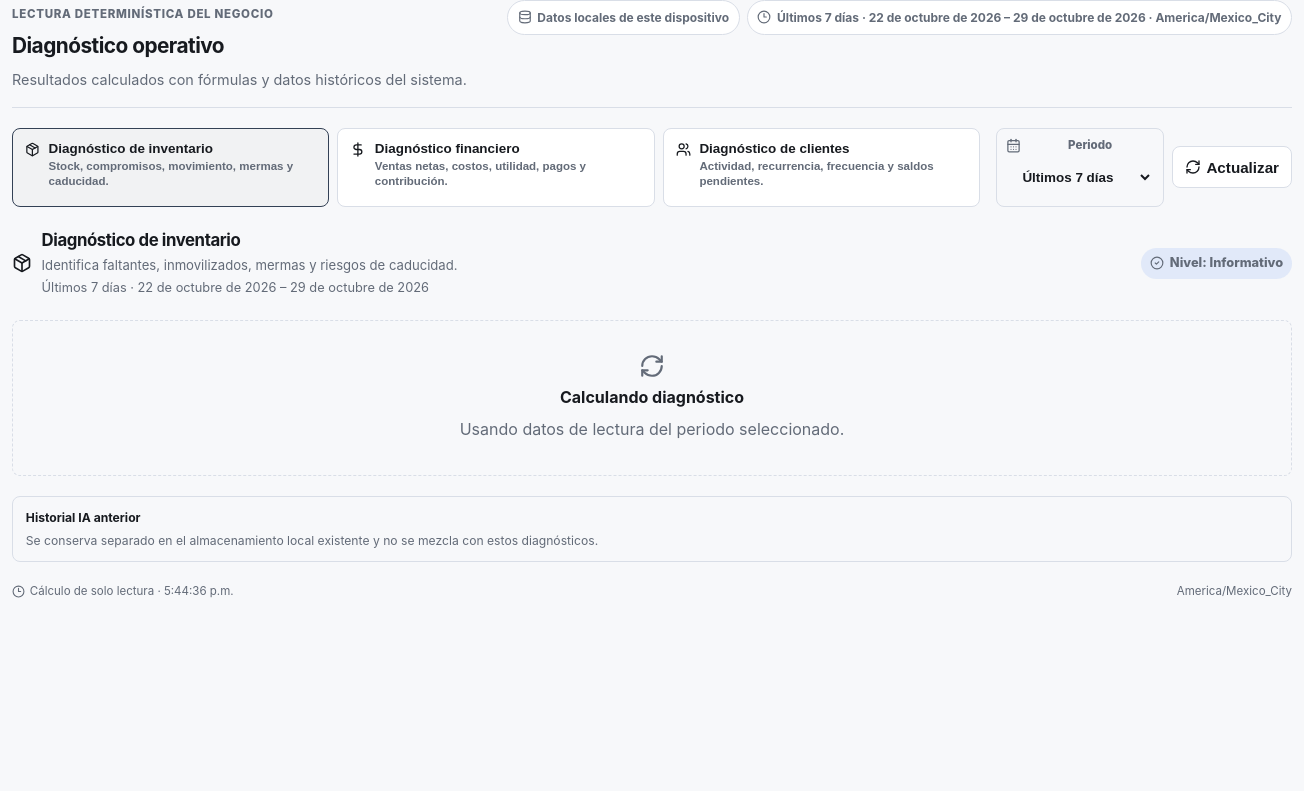
Scenario: OperationalDiagnostics › shows customer metrics with human labels and keeps personal details out of the summary
Click the tab "Diagnóstico de clientes": point(821, 167) [662,128,980,207]
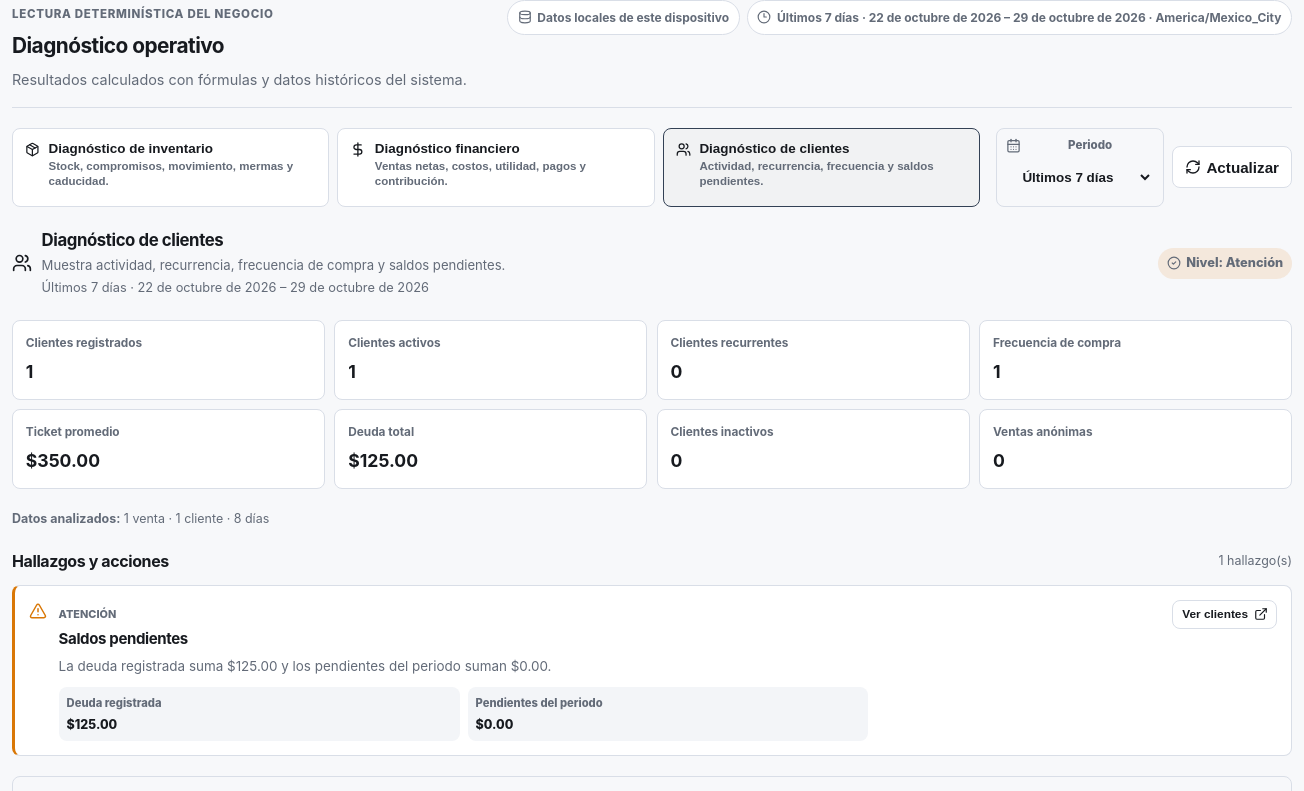
Check: the text "Clientes registrados" is shown, box [26,336,142,350]
Check: the text "Ventas anónimas" is shown, box [993,425,1092,439]
Check: the text "Deuda total" is shown, box [348,425,414,439]
